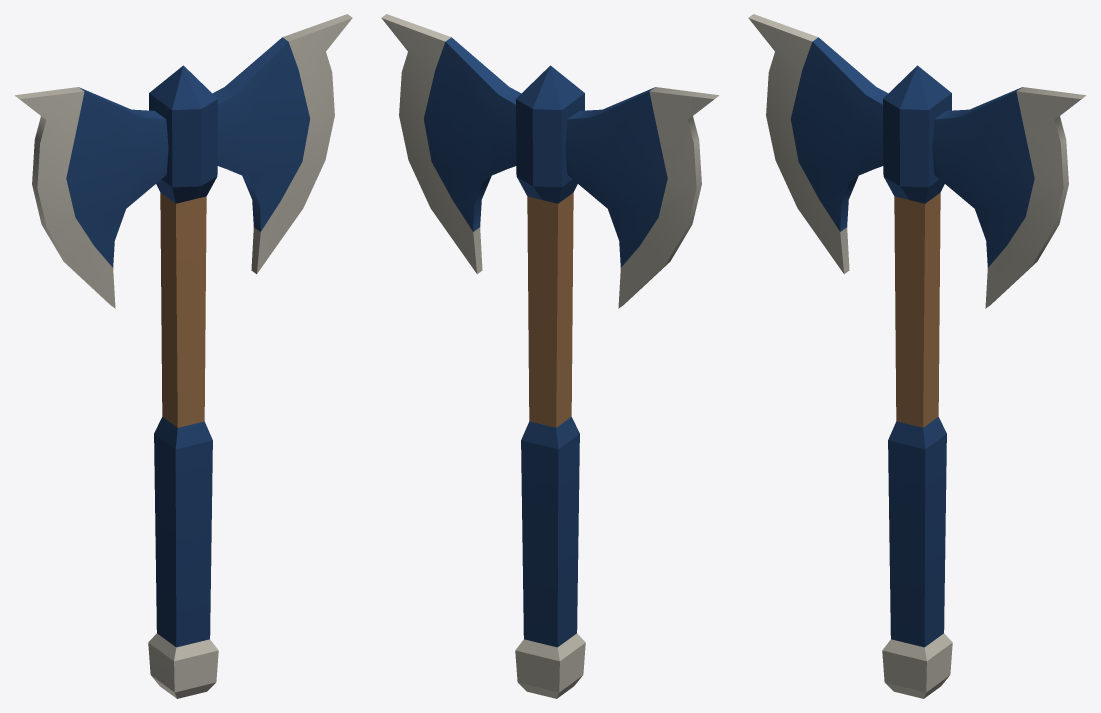
The picture shows the model from 3 angles, left to right: view 1: azimuth 30°, elevation 25°; view 2: azimuth 150°, elevation 25°; view 3: azimuth 330°, elevation 25°; orthographic projection.
Visible parts, largest first — view 1: Ax_I; view 2: Ax_I; view 3: Ax_I.
Part boxes in pixels (bbox=[...]): Ax_I: bbox=[15, 14, 352, 698]; Ax_I: bbox=[381, 14, 718, 698]; Ax_I: bbox=[748, 14, 1085, 698].
Bounding box in the file's own units: 87.21 × 158 × 16.13.
